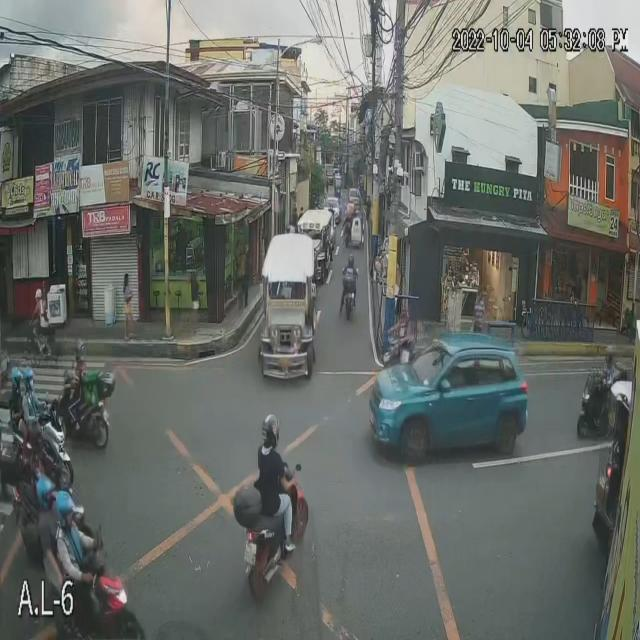full: (260, 413, 280, 448), (74, 338, 85, 360)
half: (34, 472, 54, 512), (55, 490, 73, 530), (23, 365, 36, 394), (11, 366, 22, 390)
not_wearing: (399, 302, 408, 321)
